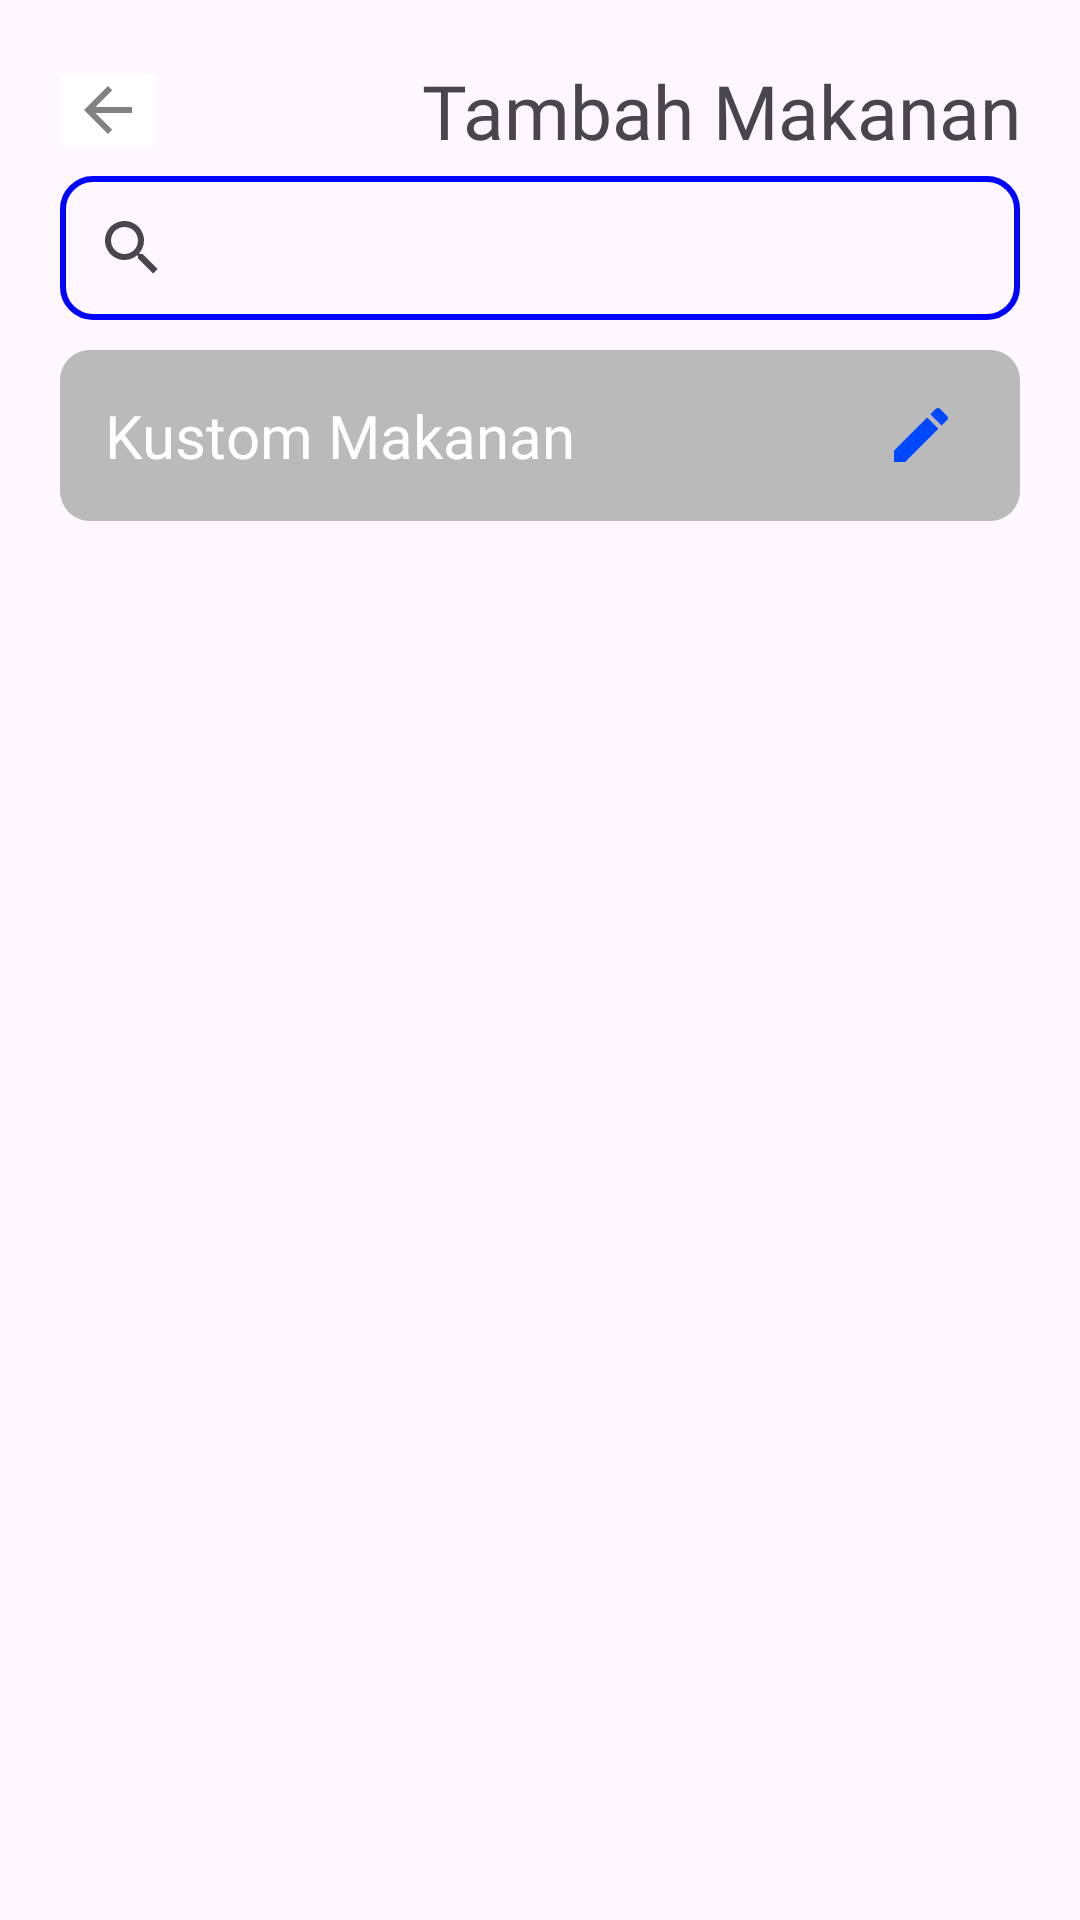

Icon bounding boxes for this 1080x1920 phone screenshot, format (x1, y1, x2, y2):
back: (84, 86, 132, 134)
edit: (894, 408, 948, 462)
